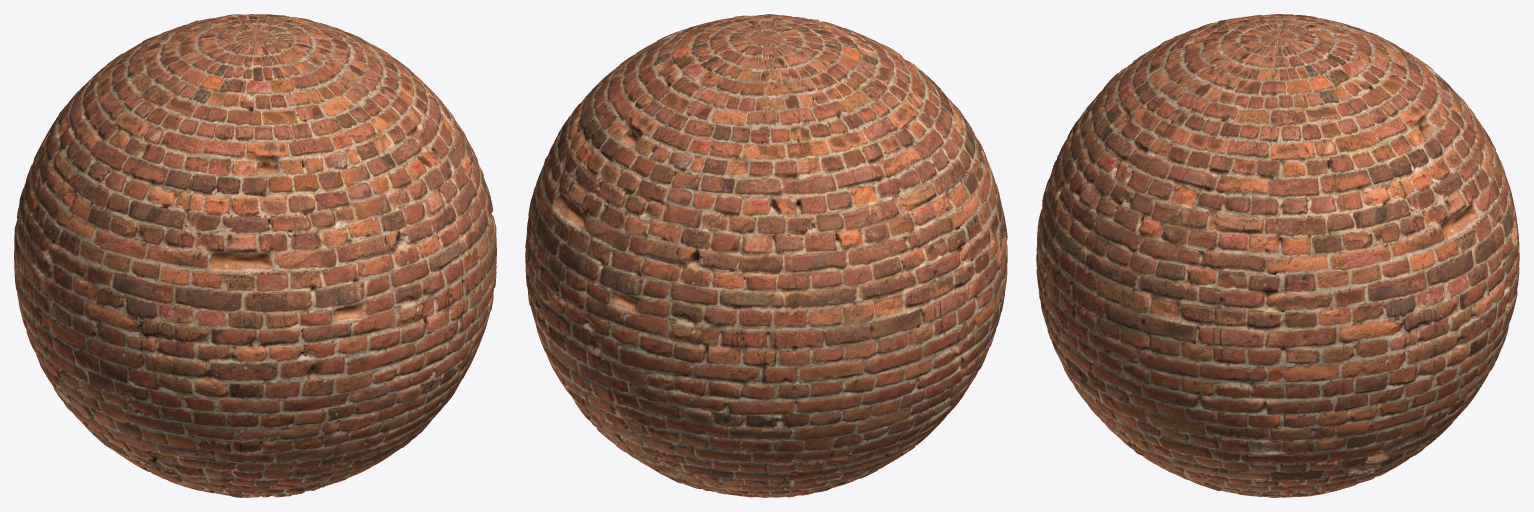
The model's file is brick_wall_006_1k.gltf.
The picture shows the model from 3 angles, left to right: view 1: azimuth 30°, elevation 25°; view 2: azimuth 150°, elevation 25°; view 3: azimuth 270°, elevation 25°; orthographic projection.
Visible parts, largest first — view 1: sphere_gltf; view 2: sphere_gltf; view 3: sphere_gltf.
Boxes of the visible parts, x1,y1,x2,y2 form: sphere_gltf: (14, 14, 496, 497); sphere_gltf: (525, 14, 1007, 497); sphere_gltf: (1036, 14, 1519, 497).
Size of the model in its own units: 3.08 by 3.09 by 3.08.
